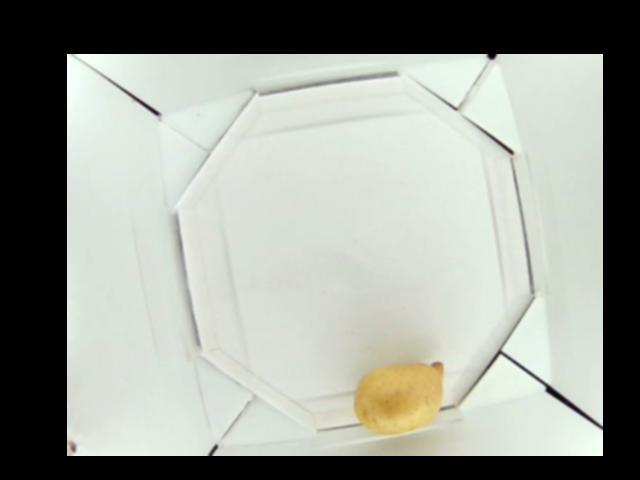Potato: (353, 358, 447, 440)
